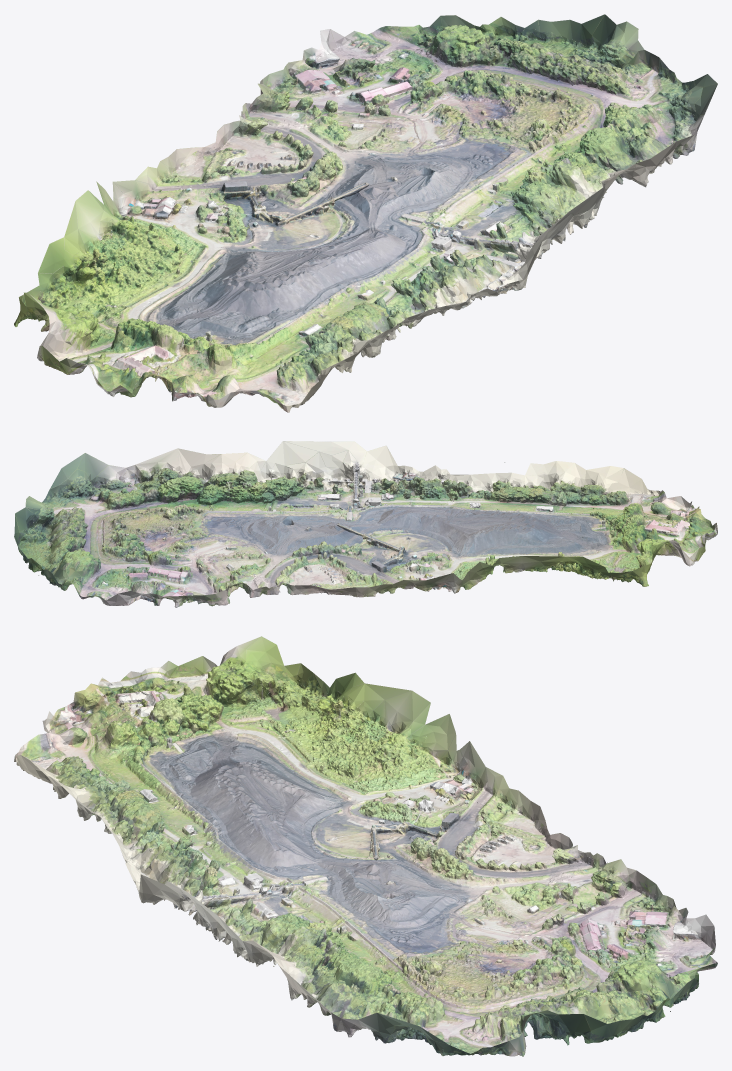
Rendered from terrain.glb.
The picture shows the model from 3 angles, top to bottom: view 1: azimuth 30°, elevation 25°; view 2: azimuth 150°, elevation 25°; view 3: azimuth 270°, elevation 25°; orthographic projection. The views are drawn at different scales.
Parts seen in each view (by area): view 1: Terrain_Main, Terrain_Skirt; view 2: Terrain_Main, Terrain_Skirt; view 3: Terrain_Main, Terrain_Skirt.
Boxes of the visible parts, box(x1,y1,x2,y2) form: Terrain_Main: box(14, 24, 696, 412); Terrain_Skirt: box(15, 14, 717, 410); Terrain_Main: box(18, 462, 717, 607); Terrain_Skirt: box(14, 441, 717, 605); Terrain_Main: box(14, 658, 717, 1056); Terrain_Skirt: box(15, 636, 715, 1055).
Bounding box in the file's own units: 632 × 53.44 × 504.
Materials: 1 (1 with a texture image).
